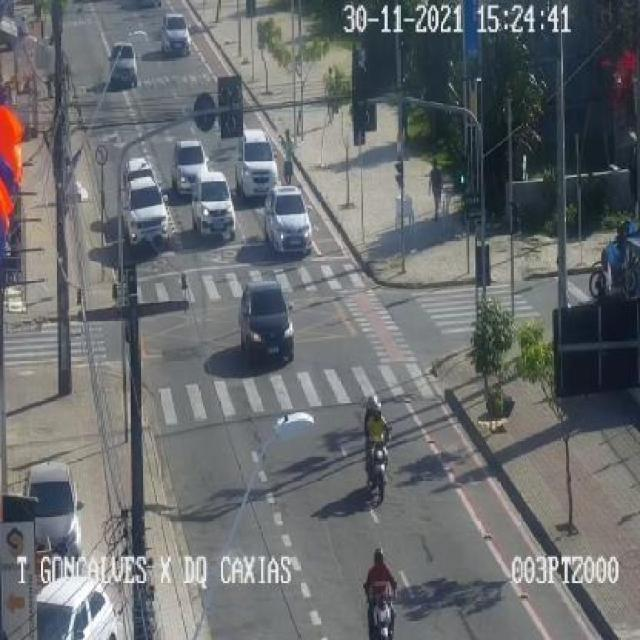Car: (20, 462, 84, 559), (37, 575, 126, 640), (238, 279, 294, 366), (123, 176, 170, 251), (262, 186, 312, 255), (190, 171, 237, 238), (236, 129, 278, 200), (173, 140, 209, 197), (108, 42, 138, 88), (160, 13, 191, 56), (126, 158, 158, 181)
Cycle: (586, 257, 640, 300), (361, 580, 399, 640), (365, 432, 389, 504)
